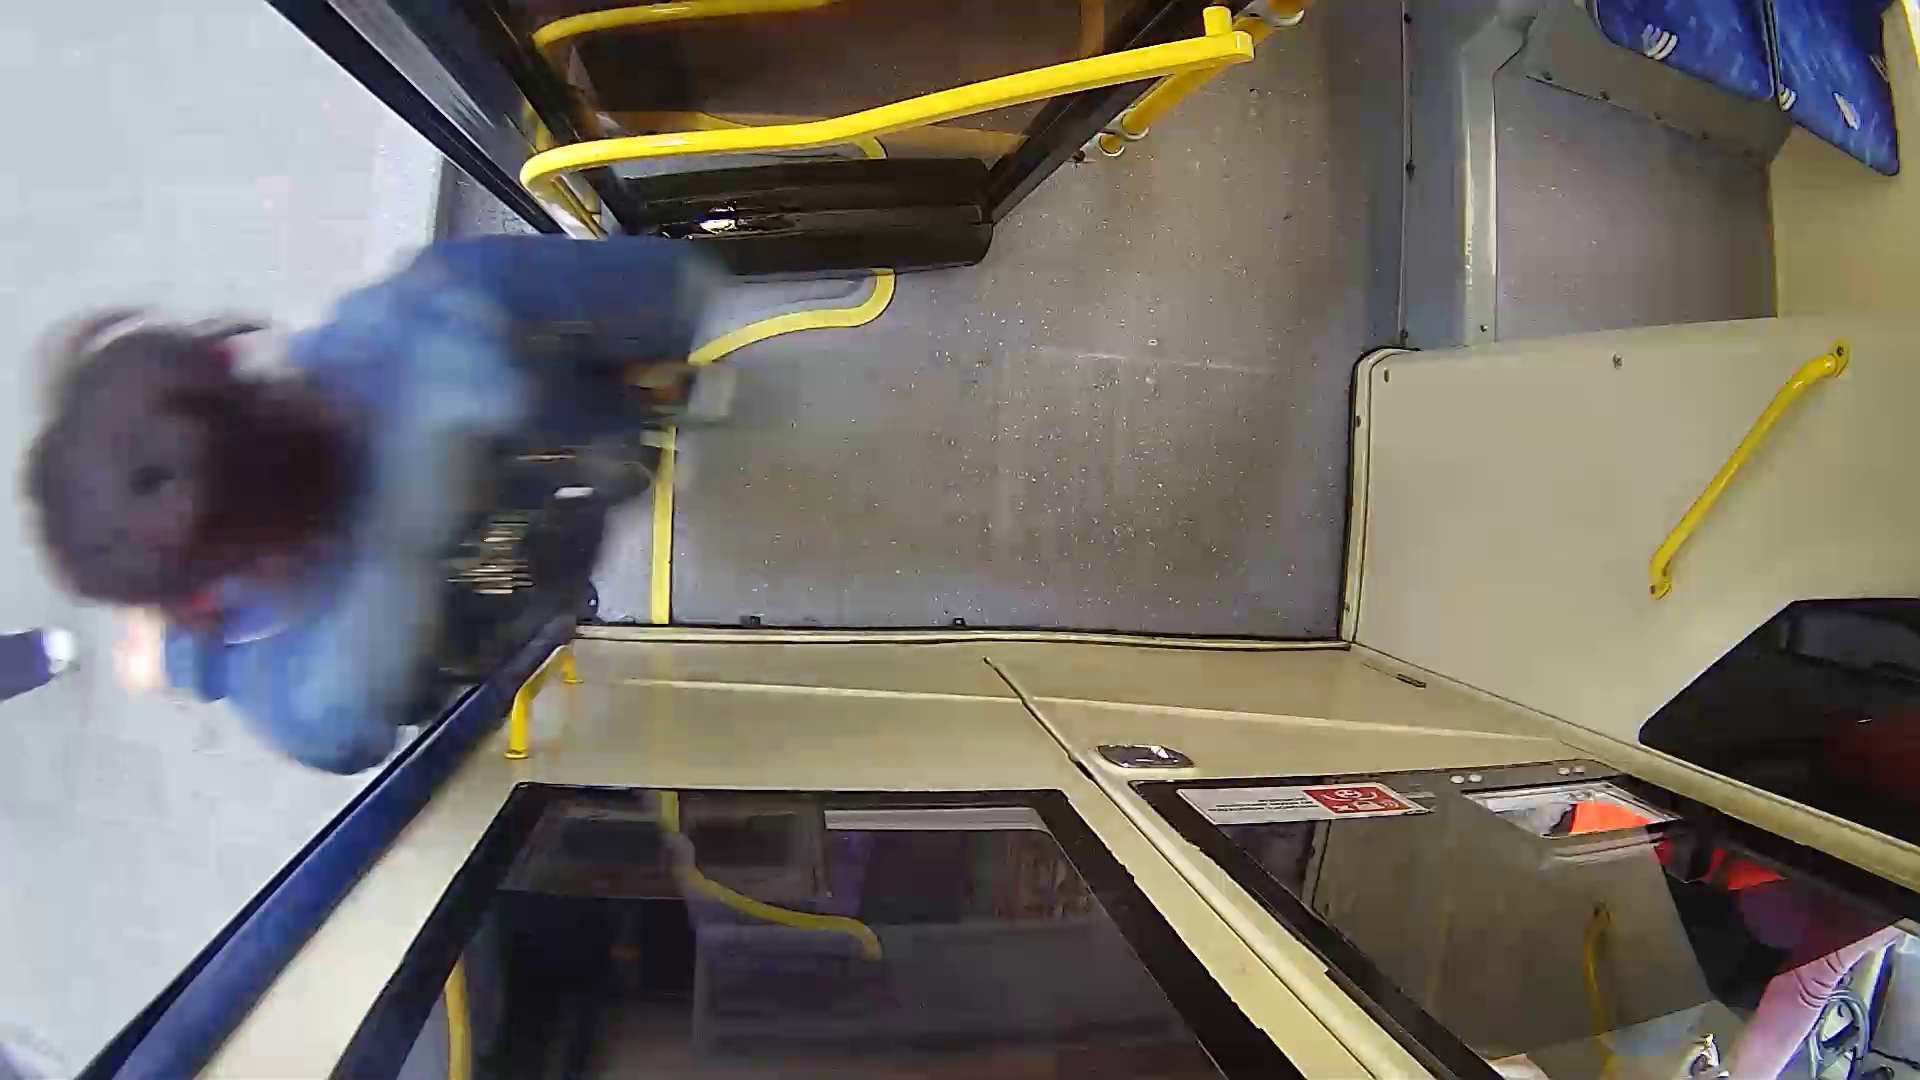person: (56, 267, 798, 738)
